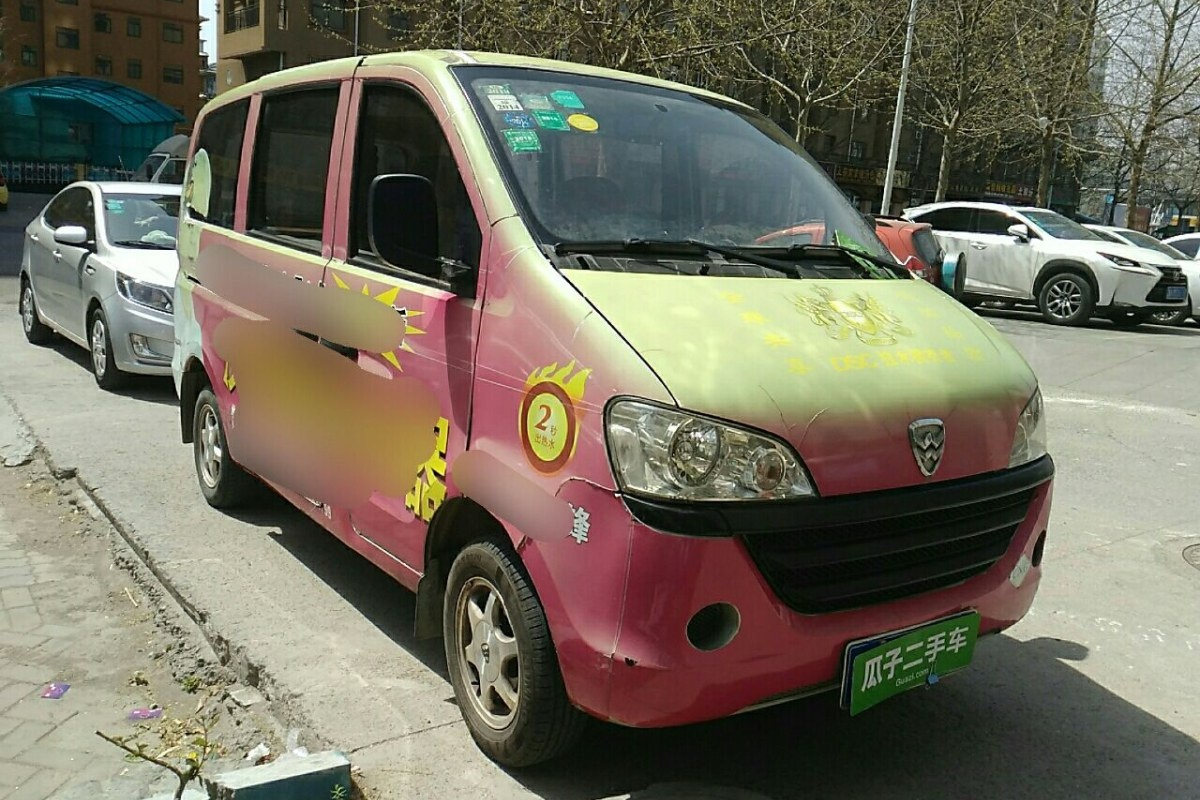minibus: (162, 60, 1044, 770)
